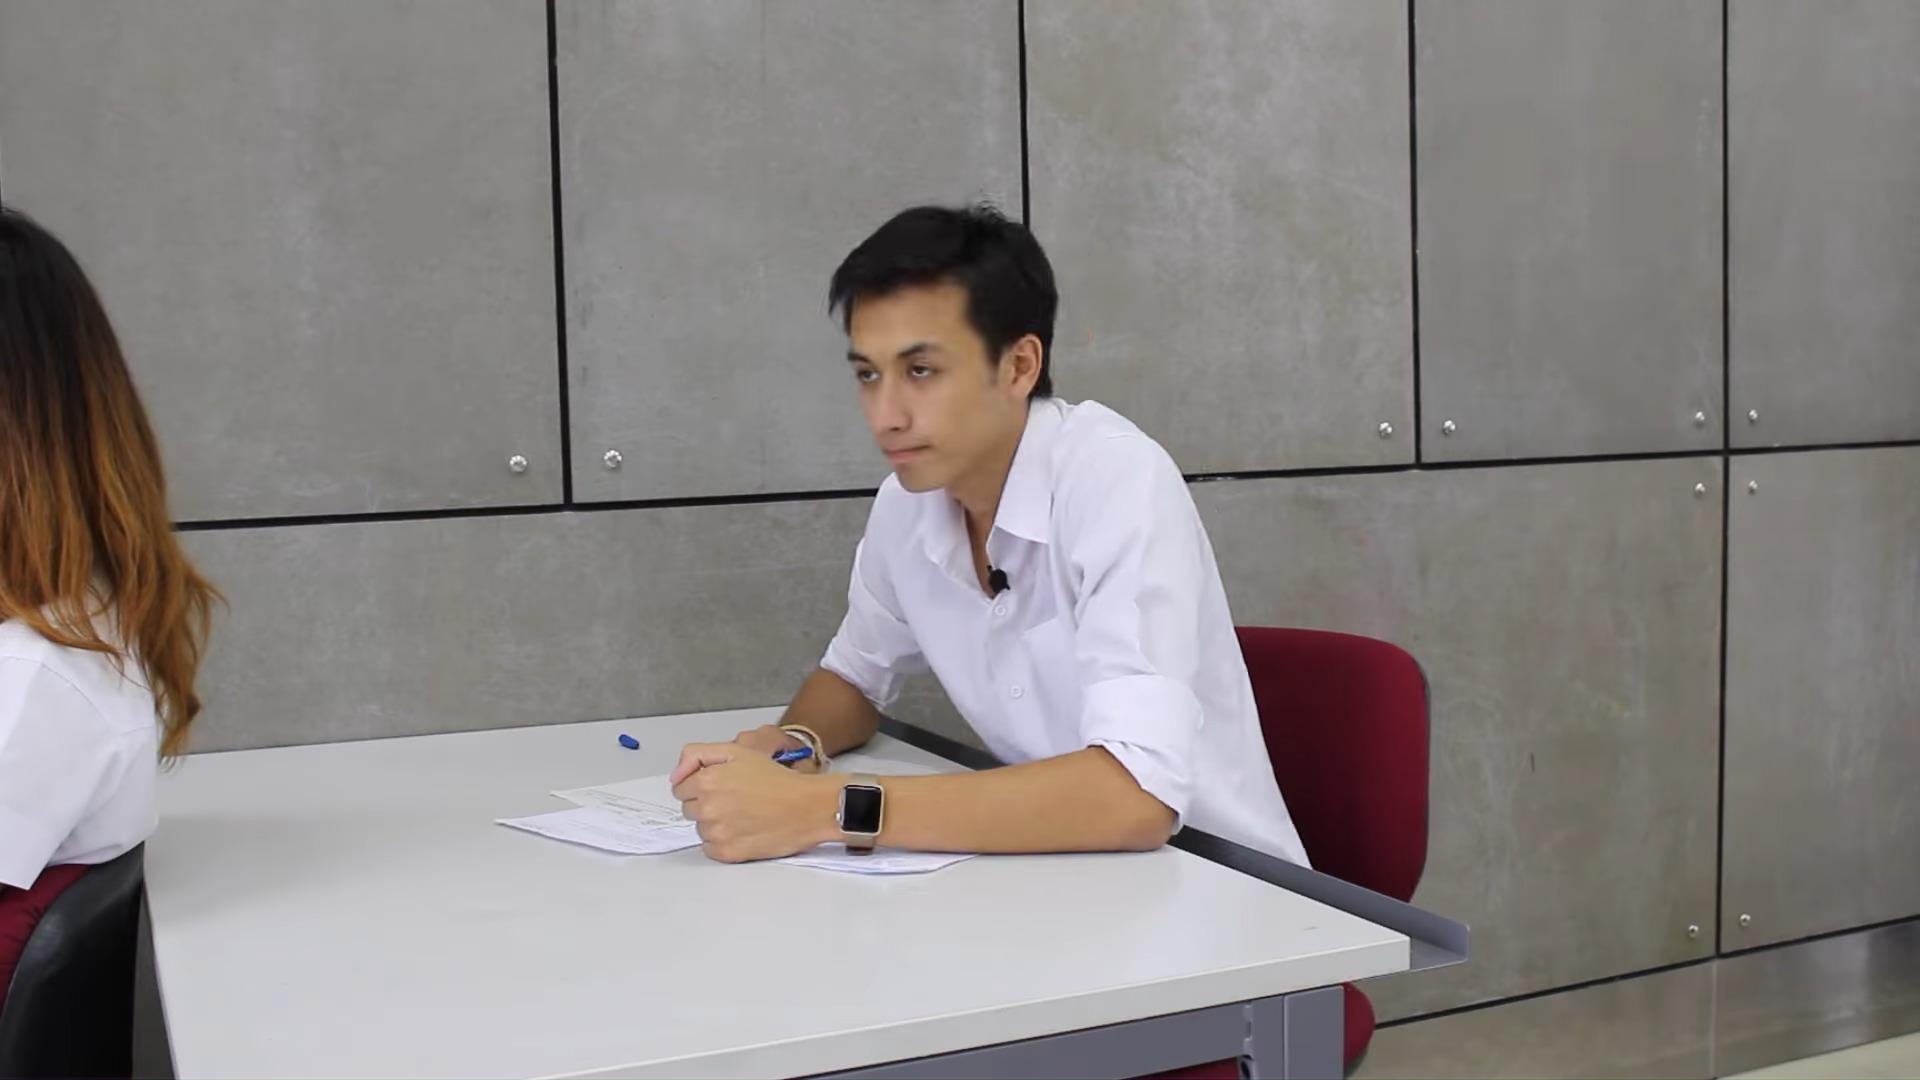cheating: (458, 170, 1328, 907)
